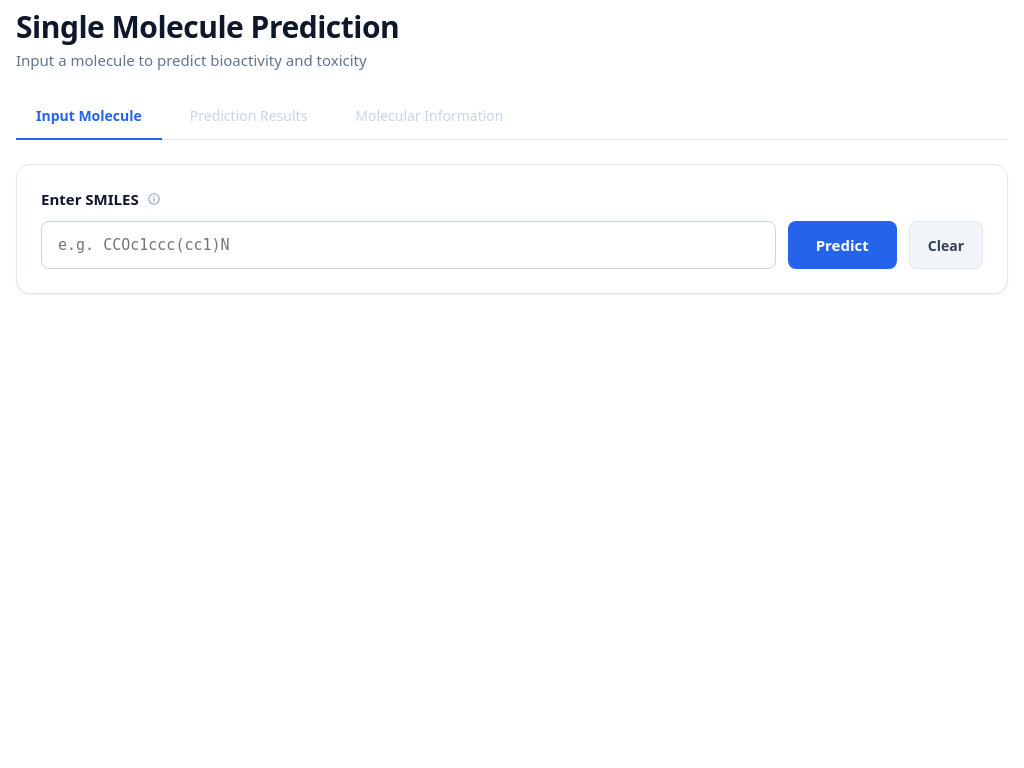
Scenario: SinglePredictionPage › shows the error and drops the previous result when a retry fails
This screenshot has width=1024, height=768.
In the field labelled "Enter SMILES": (408, 245) [41, 221, 776, 269], type "CCO"
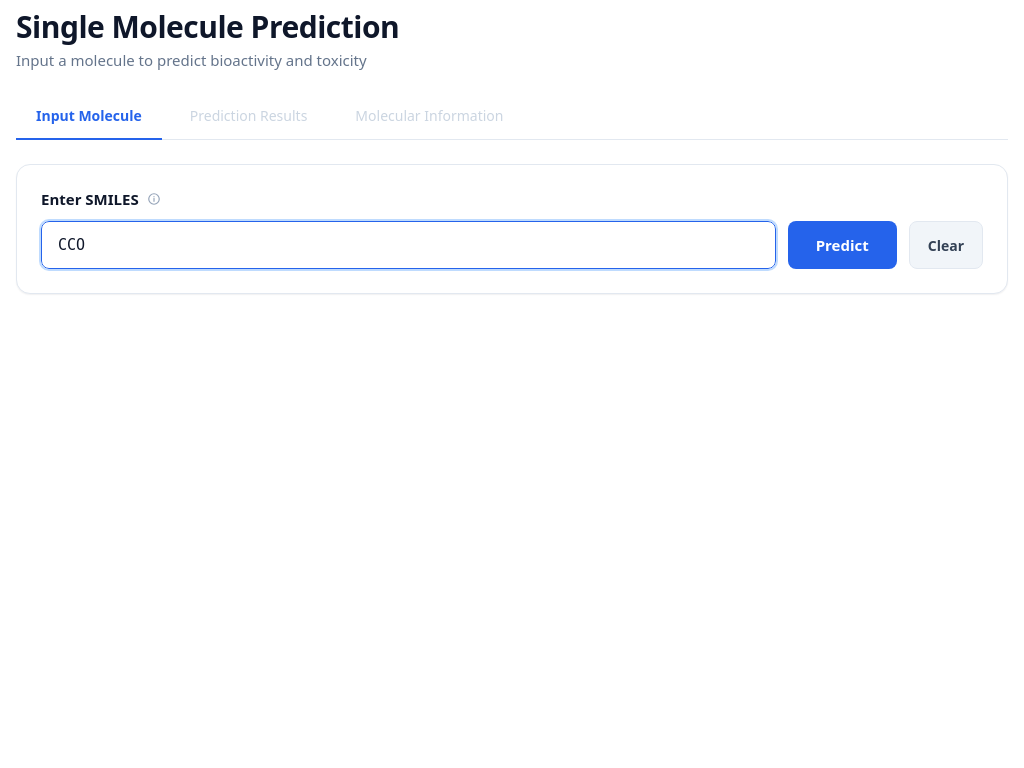
Click the button "Predict": (842, 245) [788, 221, 897, 269]
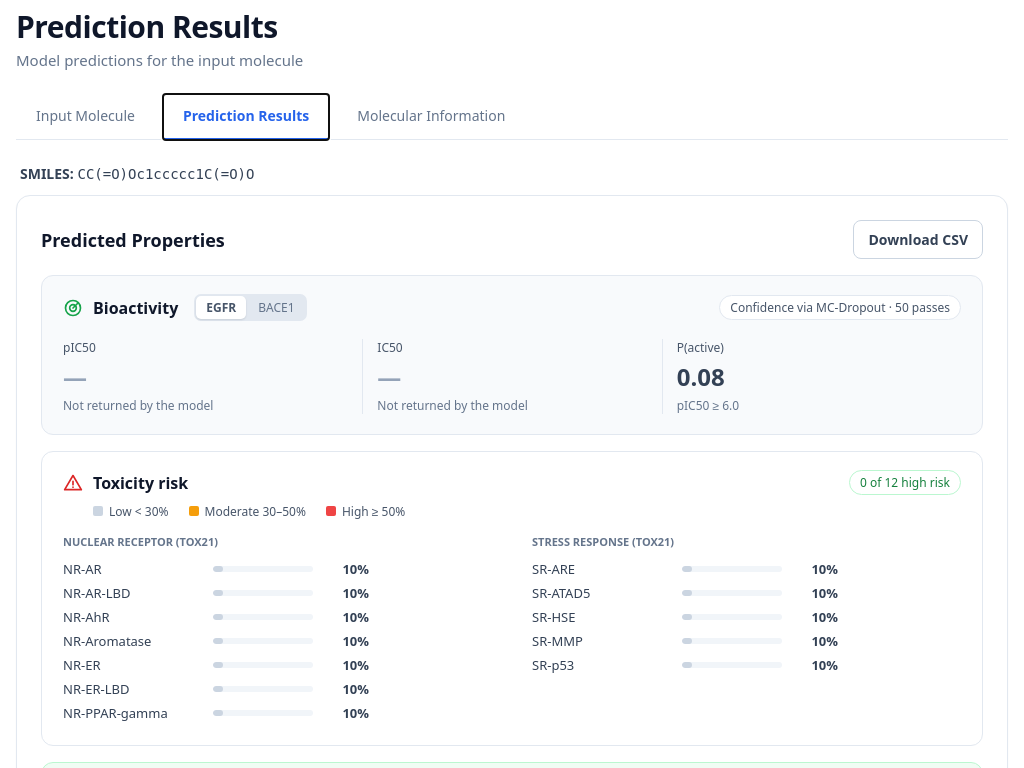
Now the heading "Prediction Results" is shown, box [16, 6, 278, 47]
Click the tab "Input Molecule": (85, 117) [16, 94, 155, 140]
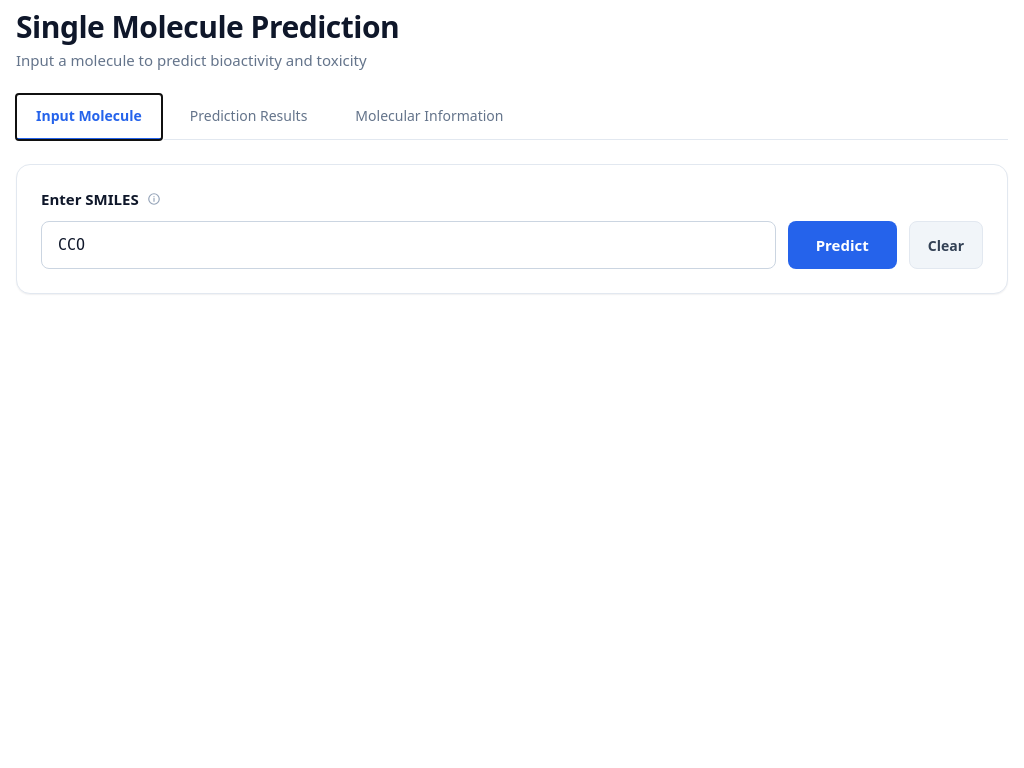
Click the button "Predict": (842, 245) [788, 221, 897, 269]
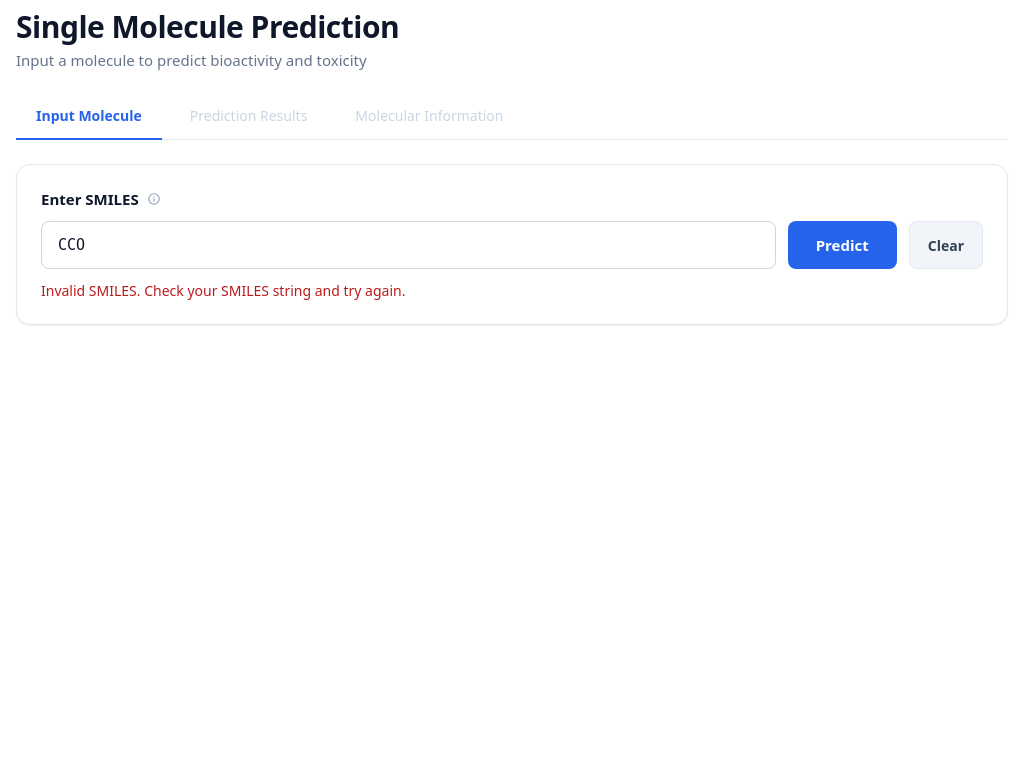
Now the message shows "Invalid SMILES", box [41, 281, 405, 300]
Now the tab "Prediction Results" is disabled, box [170, 94, 327, 140]
Now the tab "Molecular Information" is disabled, box [335, 94, 524, 140]
Click the button "Clear": (946, 245) [909, 221, 983, 269]
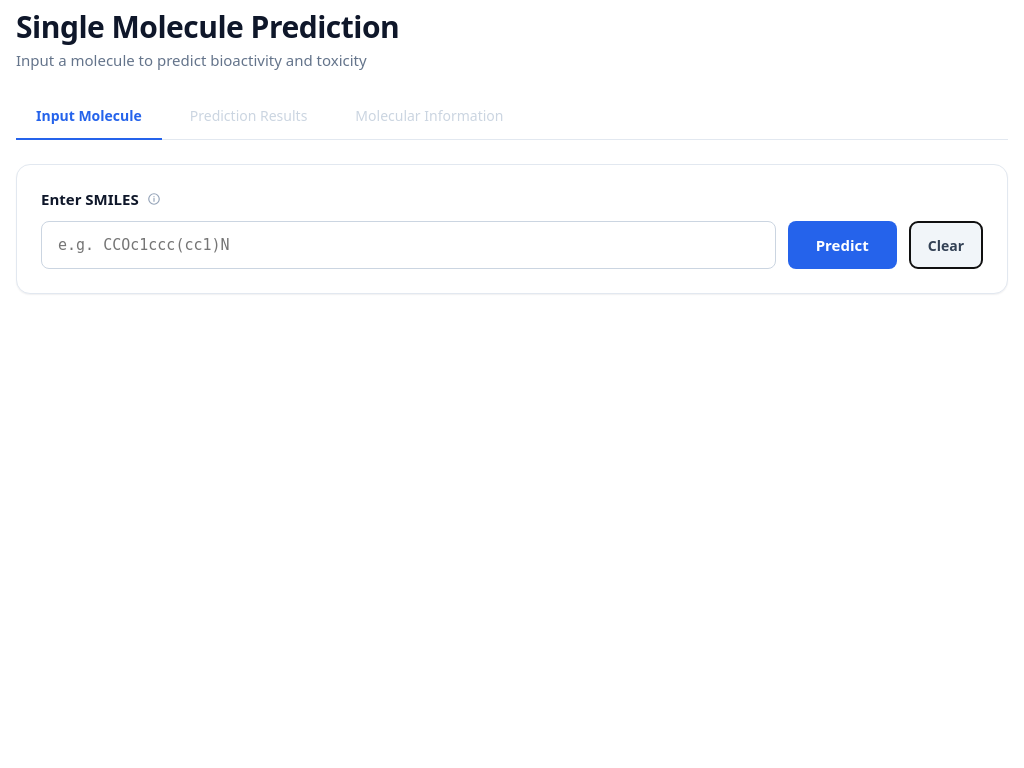
Now the field labelled "Enter SMILES" is empty, box [41, 221, 776, 269]
Now the message "Invalid SMILES. Check your SMILES string and try again." is gone
